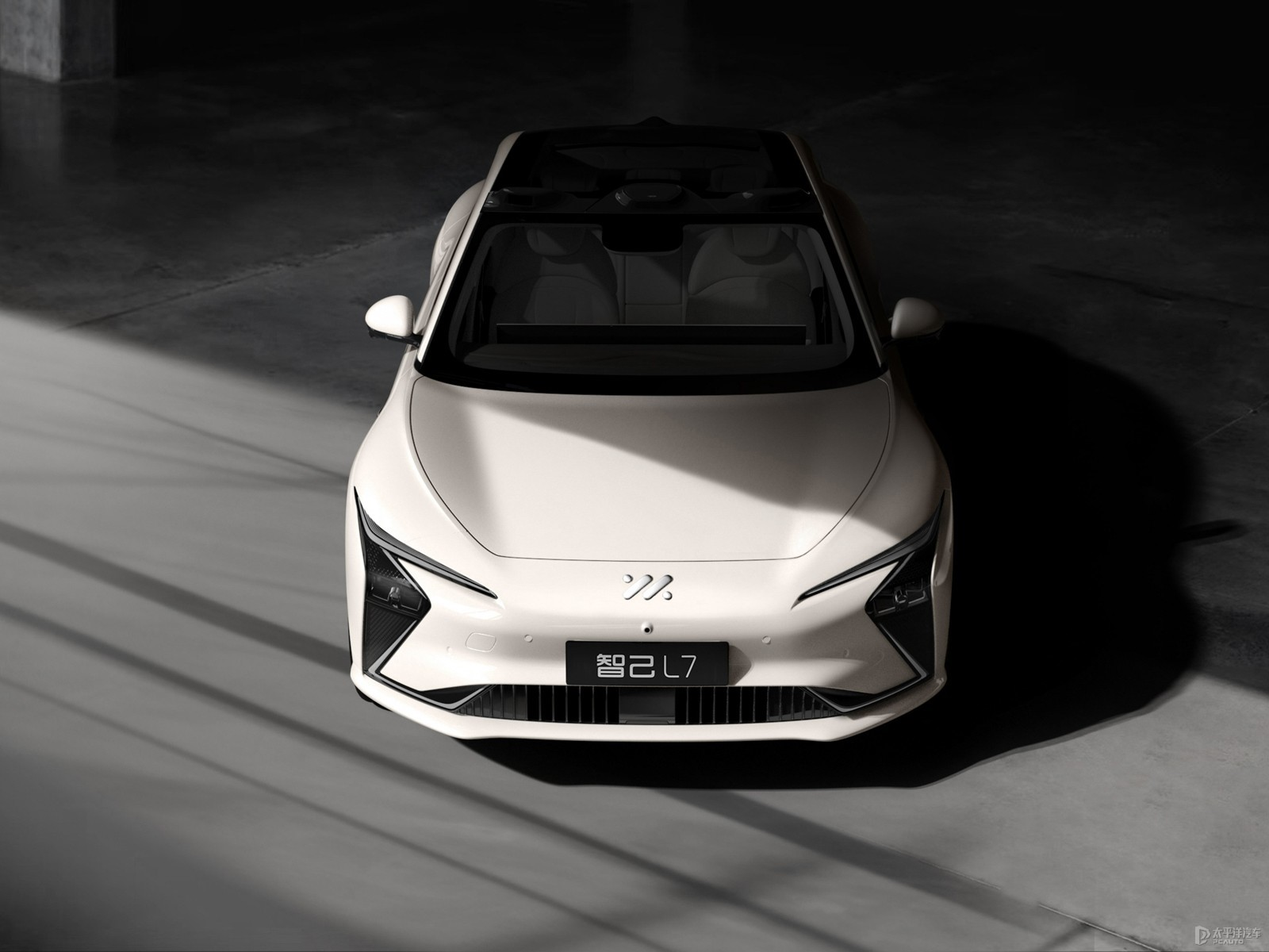IM: (623, 574, 672, 599)
